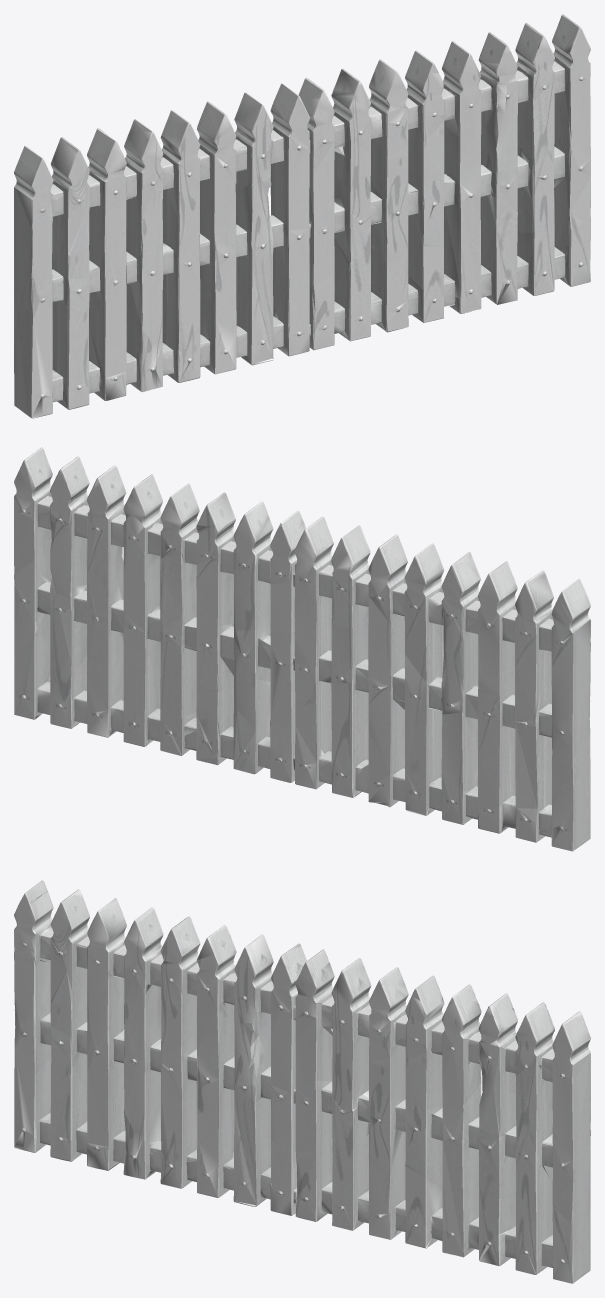
File: fence.glb
3 views of the same model, one above another, from view 1: azimuth 30°, elevation 25°; view 2: azimuth 150°, elevation 25°; view 3: azimuth 330°, elevation 25° (orthographic).
Bounding box in the file's own units: 1.9 × 0.8398 × 0.1206.
Materials: 1 (1 with a texture image).
